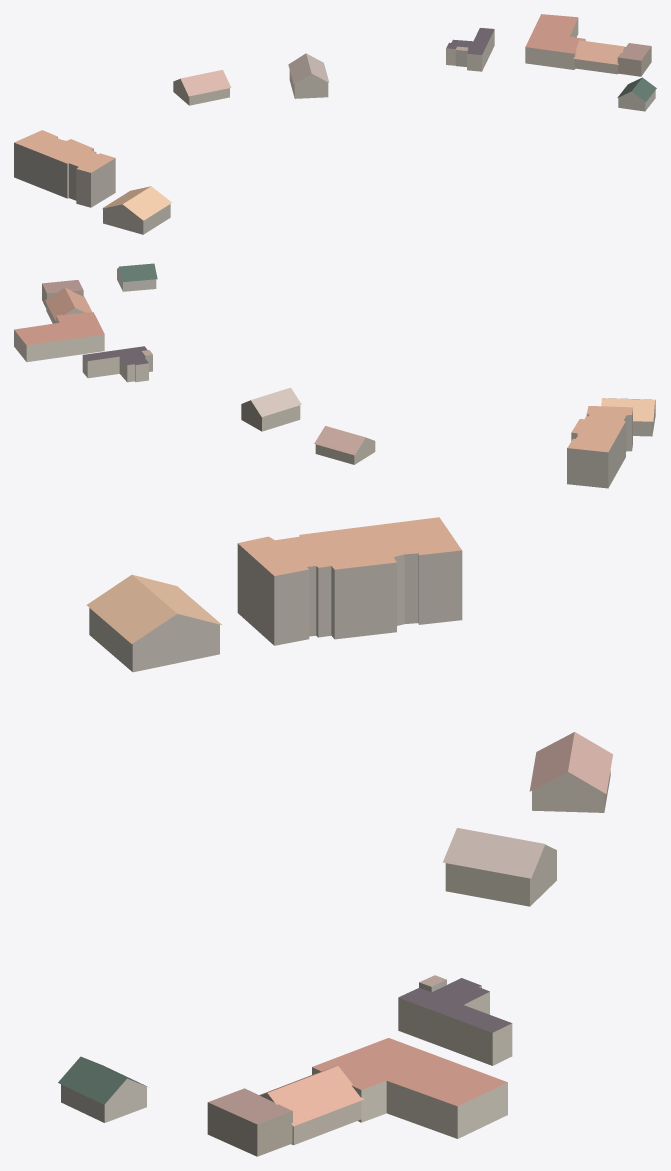
3 renders of one model, top to bottom at view 1: azimuth 30°, elevation 25°; view 2: azimuth 150°, elevation 25°; view 3: azimuth 270°, elevation 25°, orthographic. The views are drawn at different scales.
Parts seen in each view (by area): view 1: tuile; view 2: tuile; view 3: tuile.
Part boxes in pixels (x1,y1,x2,y2): tuile: (14,14,656,234); tuile: (14,263,655,488); tuile: (58,517,612,1156).
Bounding box in the file's own units: 216 × 13.39 × 87.53.
